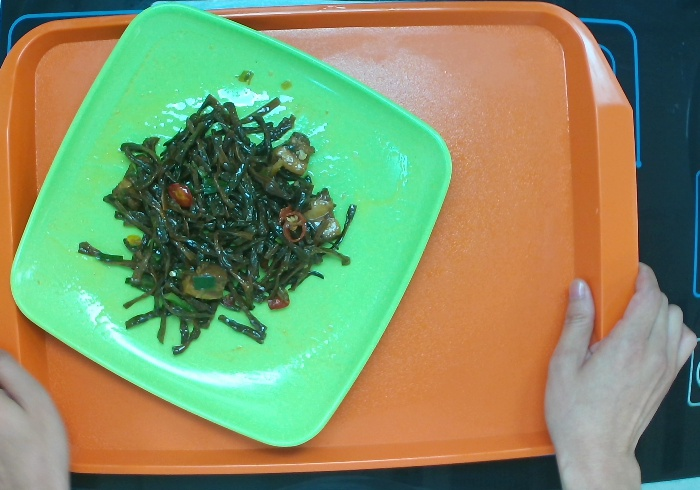ZNLD-Lv_Fang_Pan: (6, 3, 455, 447)
